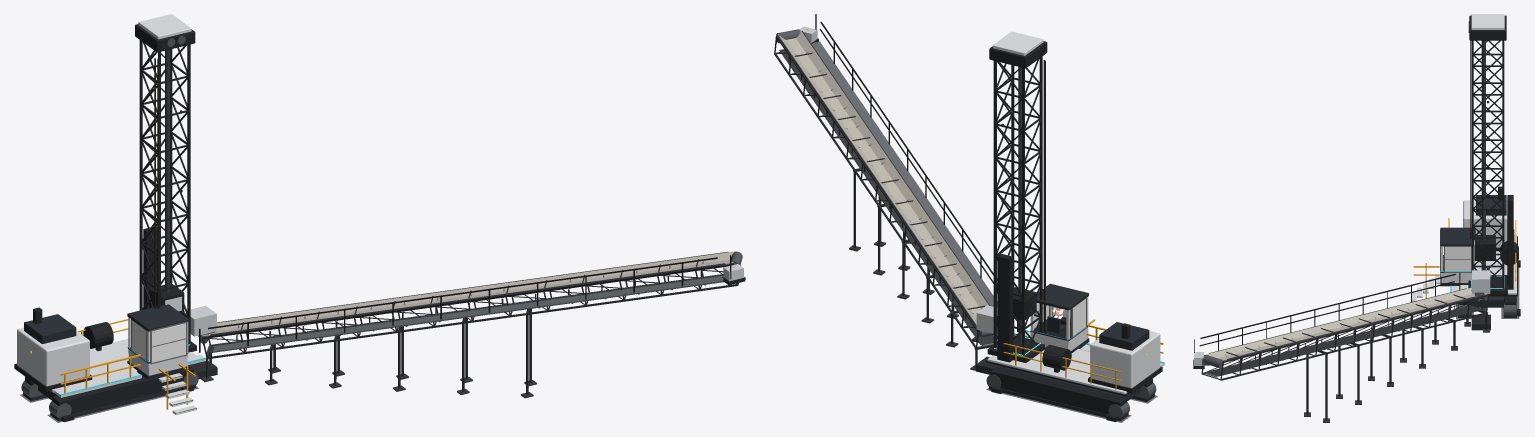
Rendered from mine_drill_v3h_c2c_a611a50d.glb.
The picture shows the model from 3 angles, left to right: view 1: azimuth 30°, elevation 25°; view 2: azimuth 150°, elevation 25°; view 3: azimuth 270°, elevation 25°; orthographic projection. The views are drawn at different scales.
Parts seen in each view (by area): view 1: Drill_Rig, Conveyor_Gallery, Cab_Glass_Front; view 2: Drill_Rig, Conveyor_Gallery, Cab_Glass_Rear; view 3: Conveyor_Gallery, Drill_Rig, Cab_Glass_Mast.
Boxes of the visible parts, bbox=[...] form: Drill_Rig: bbox=[14, 14, 206, 422]; Conveyor_Gallery: bbox=[184, 251, 745, 398]; Cab_Glass_Front: bbox=[152, 323, 185, 362]; Drill_Rig: bbox=[986, 31, 1164, 422]; Conveyor_Gallery: bbox=[774, 14, 1018, 374]; Cab_Glass_Rear: bbox=[1073, 299, 1085, 335]; Conveyor_Gallery: bbox=[1193, 270, 1490, 422]; Drill_Rig: bbox=[1412, 14, 1520, 318]; Cab_Glass_Mast: bbox=[1445, 246, 1470, 271].
Bounding box in the file's own units: 23.18 × 14.19 × 14.4.
